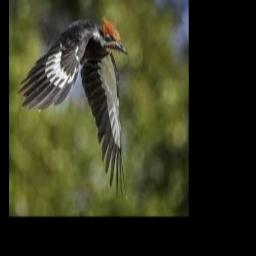Woodpecker: (18, 15, 128, 200)
